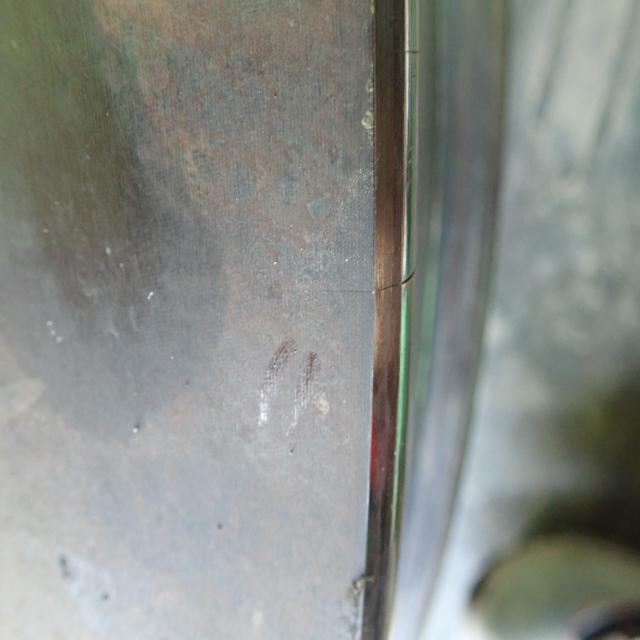Brake_Thermal_Cracks: (326, 261, 416, 308), (390, 41, 428, 71)
